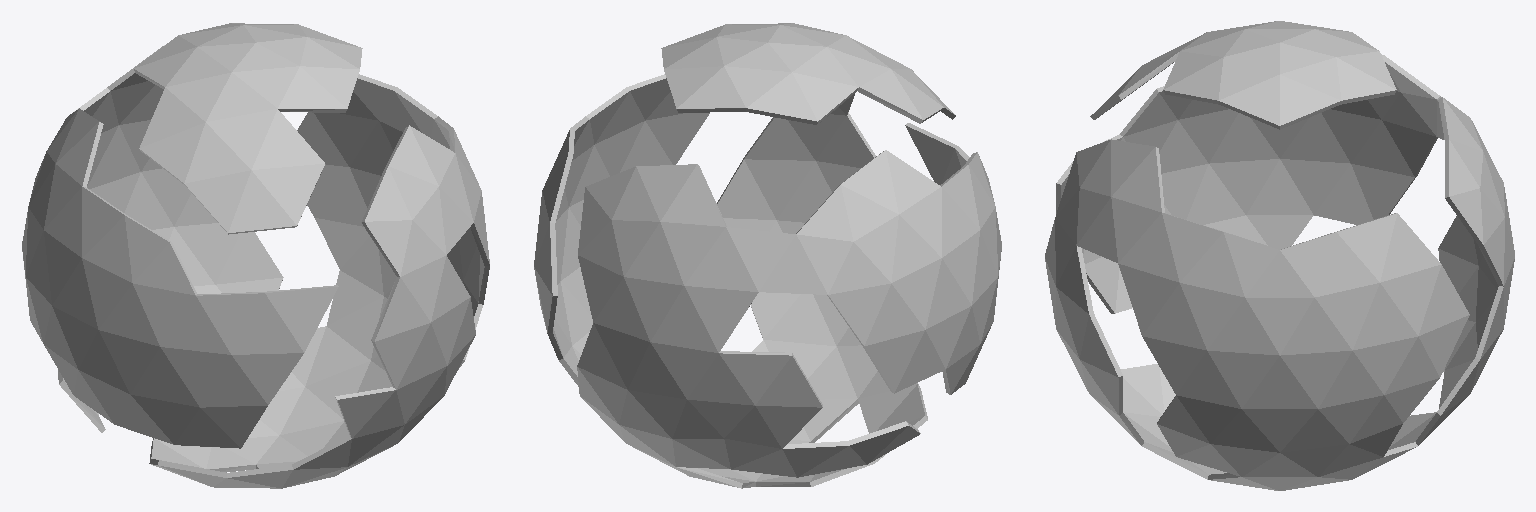
Rendered from VenusHigh.obj.
3 views of the same model, side by side, from view 1: azimuth 30°, elevation 25°; view 2: azimuth 150°, elevation 25°; view 3: azimuth 270°, elevation 25° (orthographic).
Visible parts, largest first — view 1: Icosphere.001; view 2: Icosphere.001; view 3: Icosphere.001.
Boxes of the visible parts, <box> form: Icosphere.001: <box>22,23,489,488</box>; Icosphere.001: <box>534,23,1001,488</box>; Icosphere.001: <box>1045,21,1514,490</box>.
Bounding box in the file's own units: 2.05 × 2.05 × 2.05.